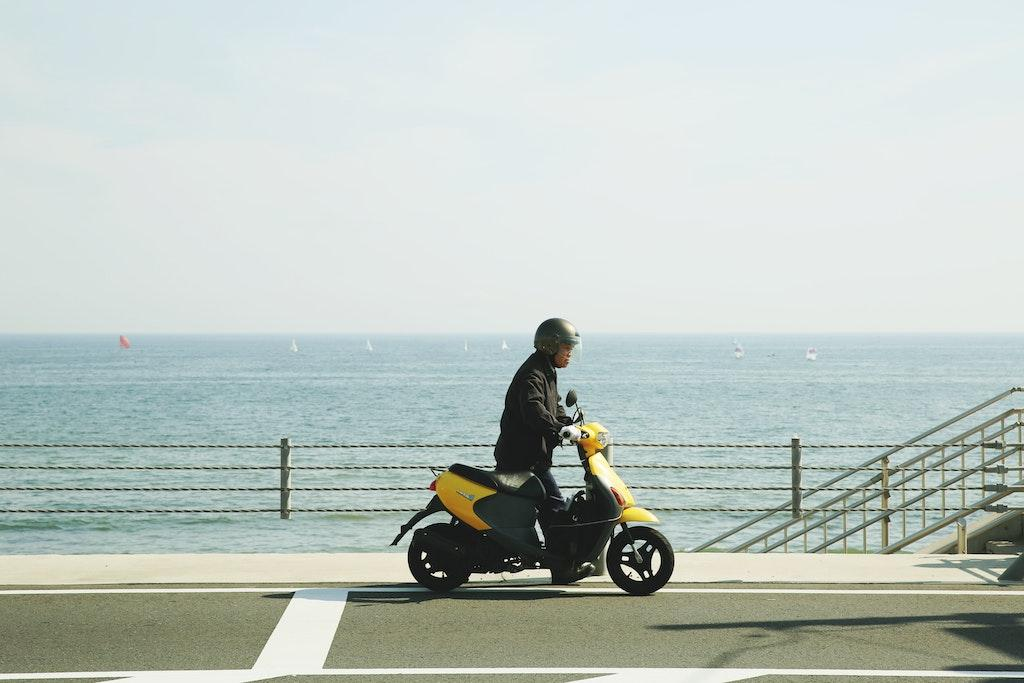helmet: (533, 317, 583, 369)
